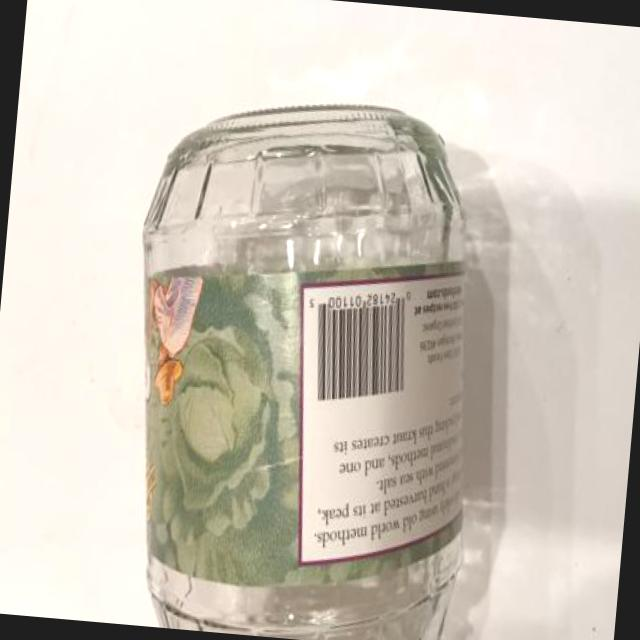chai_thuy_tinh: (141, 104, 468, 640)
